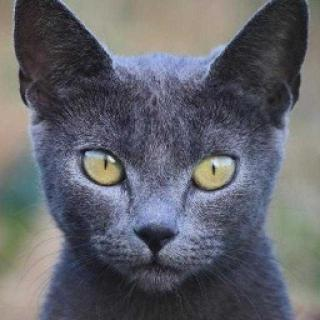cat: (12, 0, 298, 298)
nose: (126, 199, 194, 255)
